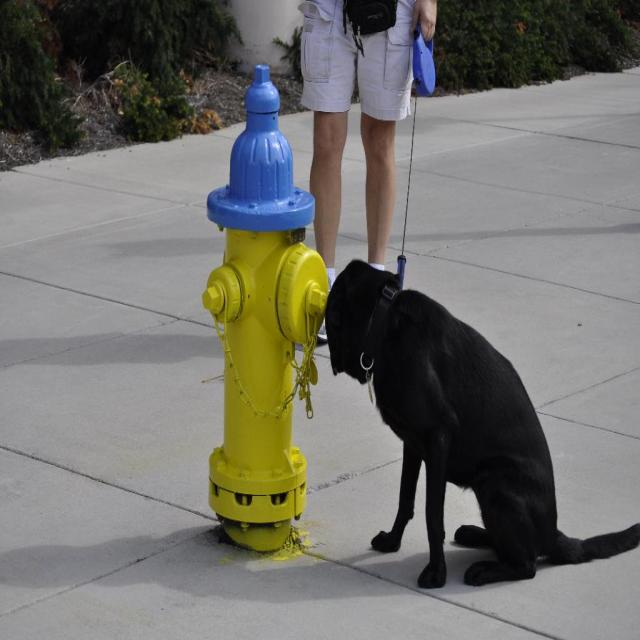fire_hydrant: (202, 66, 327, 556)
